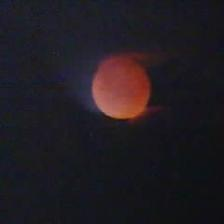infertile: (92, 54, 152, 119)
